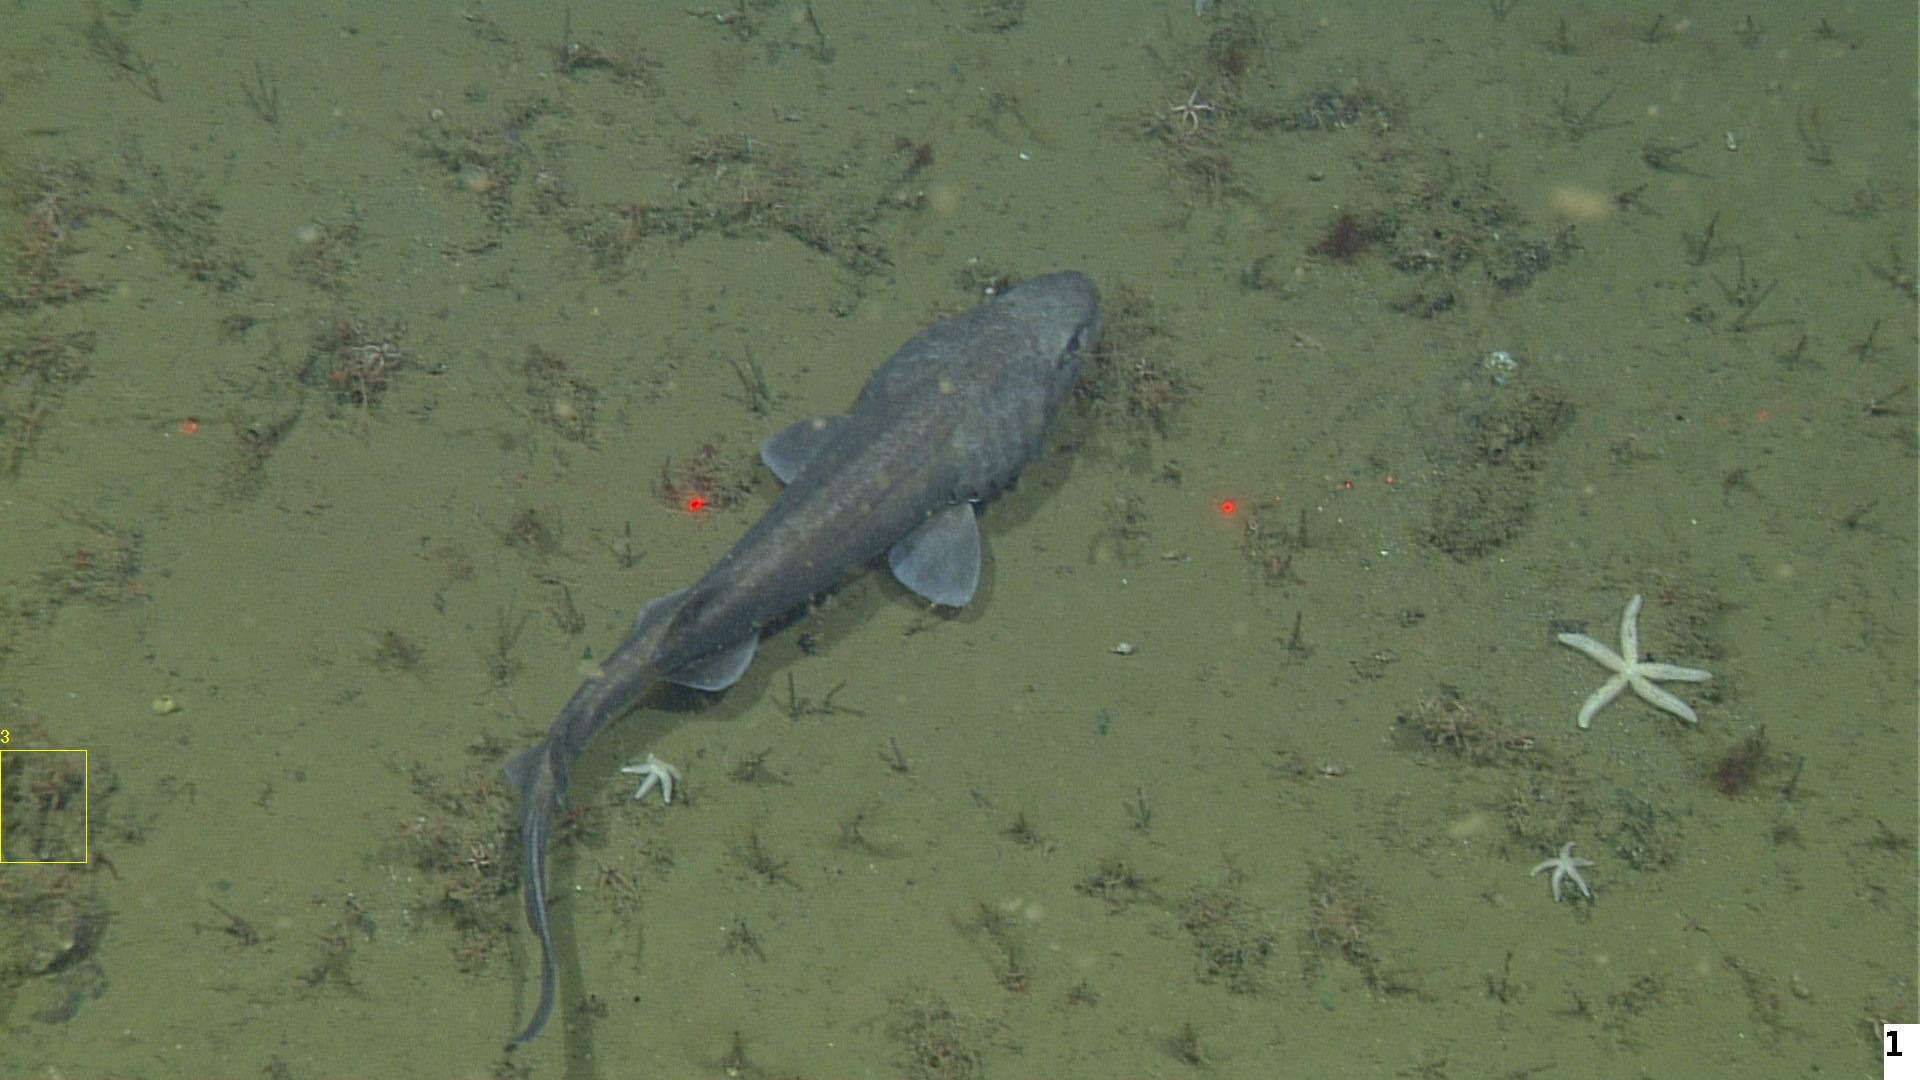shark: (382, 156, 1156, 1054)
